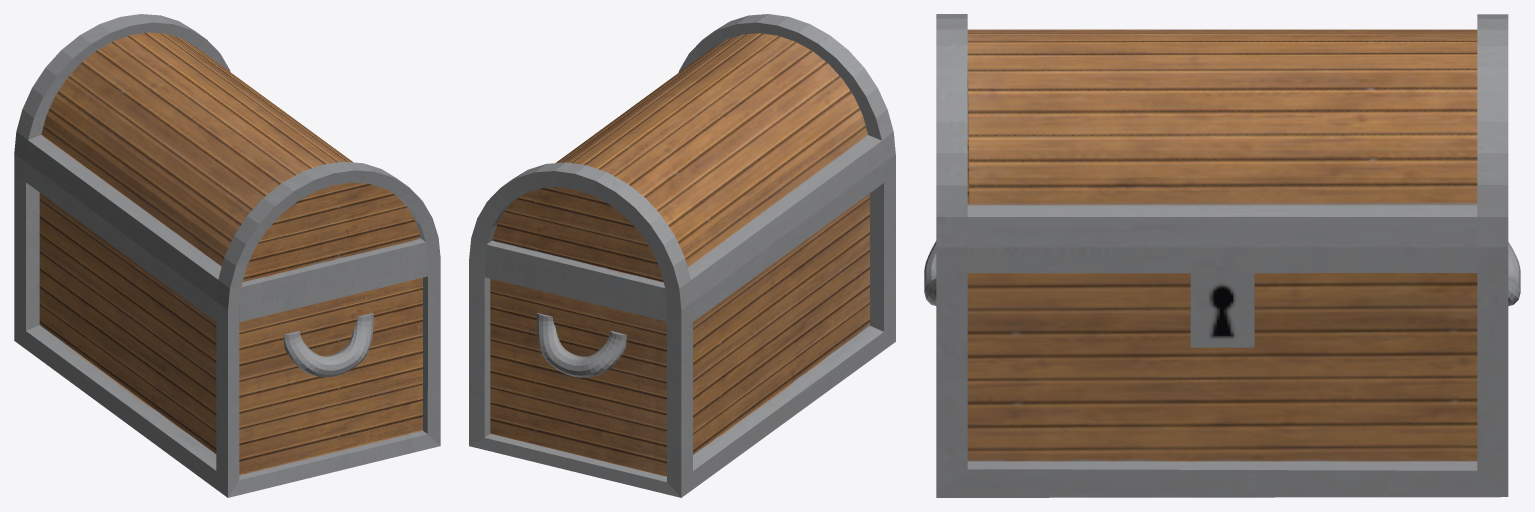
Rendered from chest.fbx.
3 views of the same model, side by side, from view 1: azimuth 30°, elevation 25°; view 2: azimuth 150°, elevation 25°; view 3: azimuth 270°, elevation 25° (orthographic). The views are drawn at different scales.
Parts seen in each view (by area): view 1: chest; view 2: chest; view 3: chest.
Boxes of the visible parts, box(x1,y1,x2,y2) form: chest: box(14, 14, 440, 497); chest: box(469, 14, 895, 497); chest: box(924, 14, 1520, 497).
Bounding box in the file's own units: 420 × 231 × 310.
Materials: 1 (1 with a texture image).
